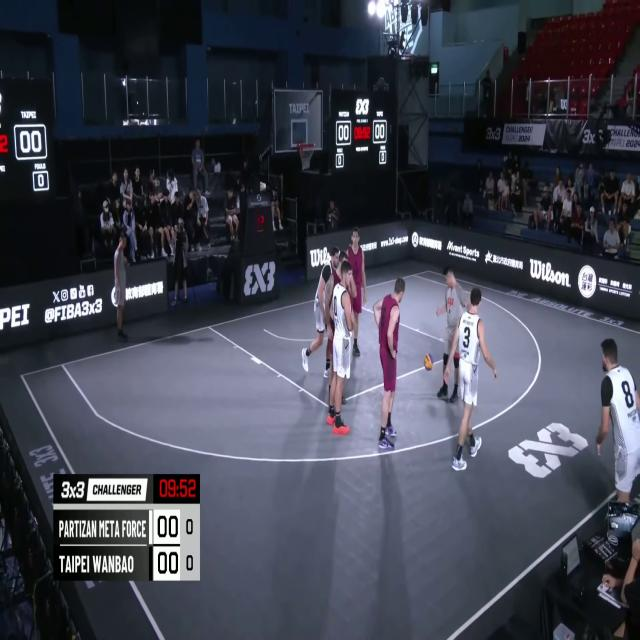ball: (422, 350, 435, 374)
hoop: (296, 139, 316, 174)
player: (444, 292, 497, 473), (321, 249, 357, 408), (376, 275, 405, 454), (301, 246, 337, 383), (328, 262, 354, 438), (346, 229, 366, 358)
